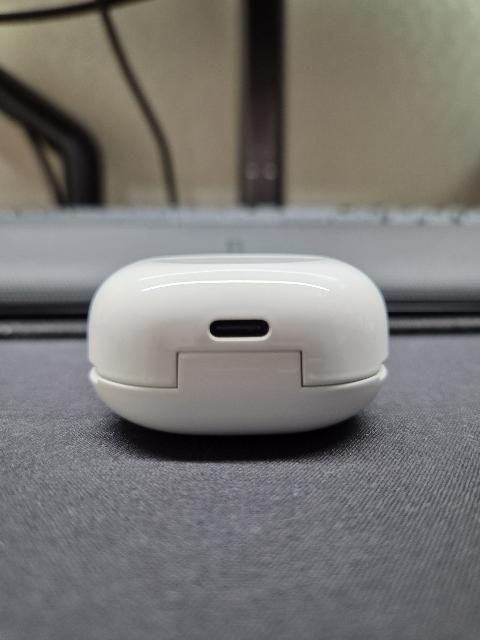earphone_case: (86, 254, 389, 436)
